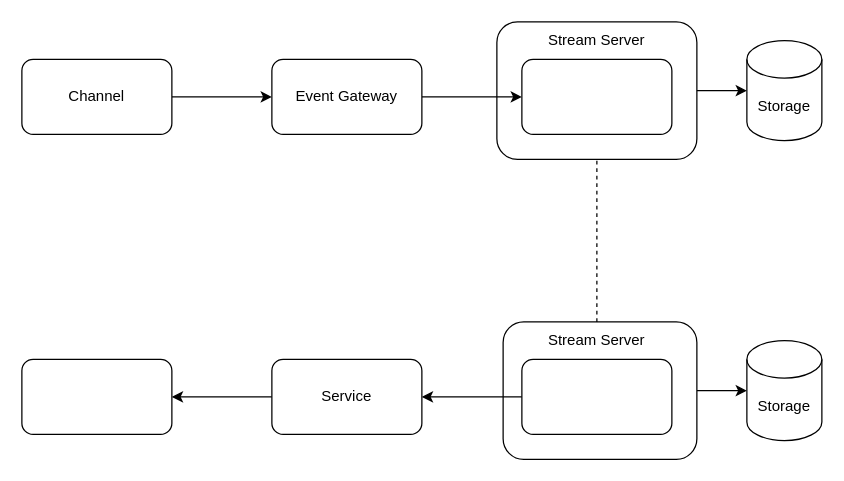
Some shapes in this 844 by 481 pixel diagram are drawn without their labels. Each missing label, with the centre of its shape:
"Core Banking" belongs at point (96, 396).
"Event Stream Consumer" belongs at point (596, 396).
"Event Stream Publisher" belongs at point (596, 96).
